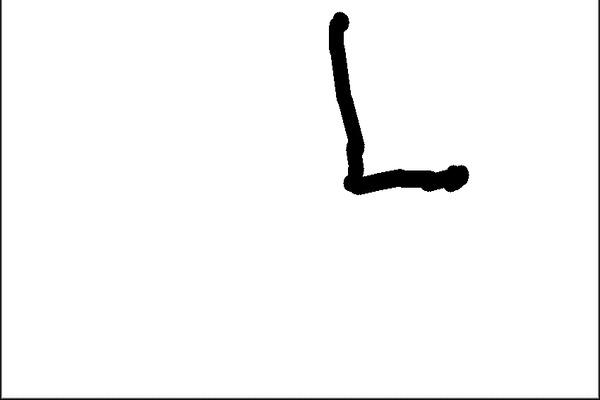L: (316, 5, 477, 198)
